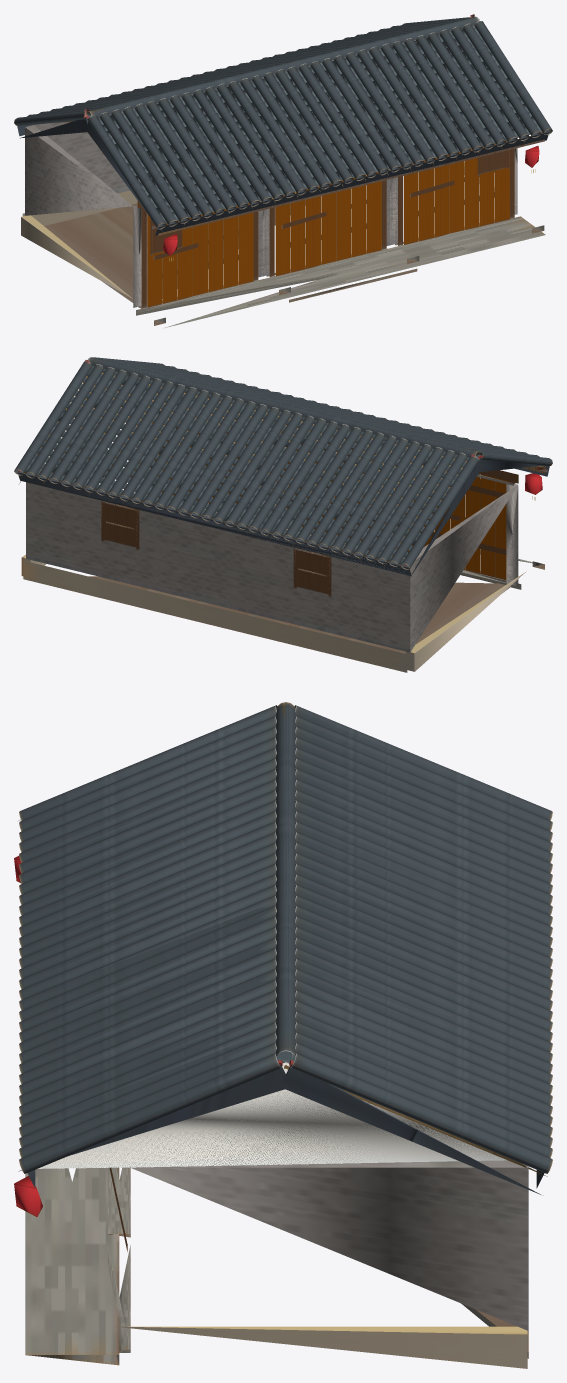
File: lib_lib_house_a1.lod.glb
The picture shows the model from 3 angles, top to bottom: view 1: azimuth 30°, elevation 25°; view 2: azimuth 150°, elevation 25°; view 3: azimuth 270°, elevation 25°; orthographic projection. The views are drawn at different scales.
Parts seen in each view (by area): view 1: house_a1; view 2: house_a1; view 3: house_a1.
Part boxes in pixels (x1,y1,x2,y2): house_a1: [14, 14, 552, 327]; house_a1: [14, 357, 552, 672]; house_a1: [14, 702, 552, 1368].
Bounding box in the file's own units: 11.12 × 4.6 × 7.11.
Materials: 8 (8 with a texture image).
